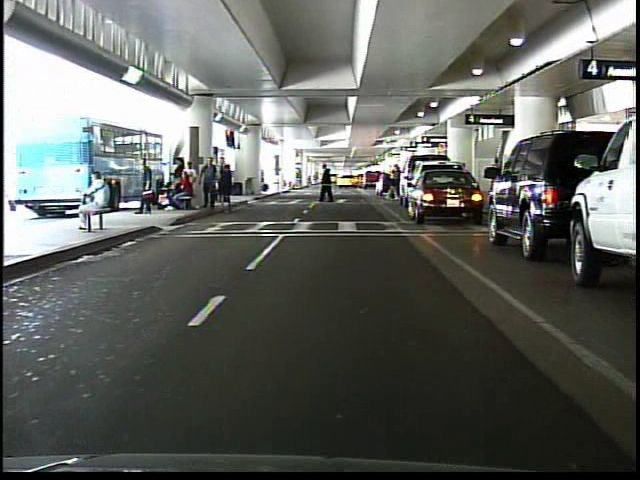person: (66, 165, 113, 236), (130, 153, 157, 218), (317, 163, 341, 208), (386, 161, 401, 199)
